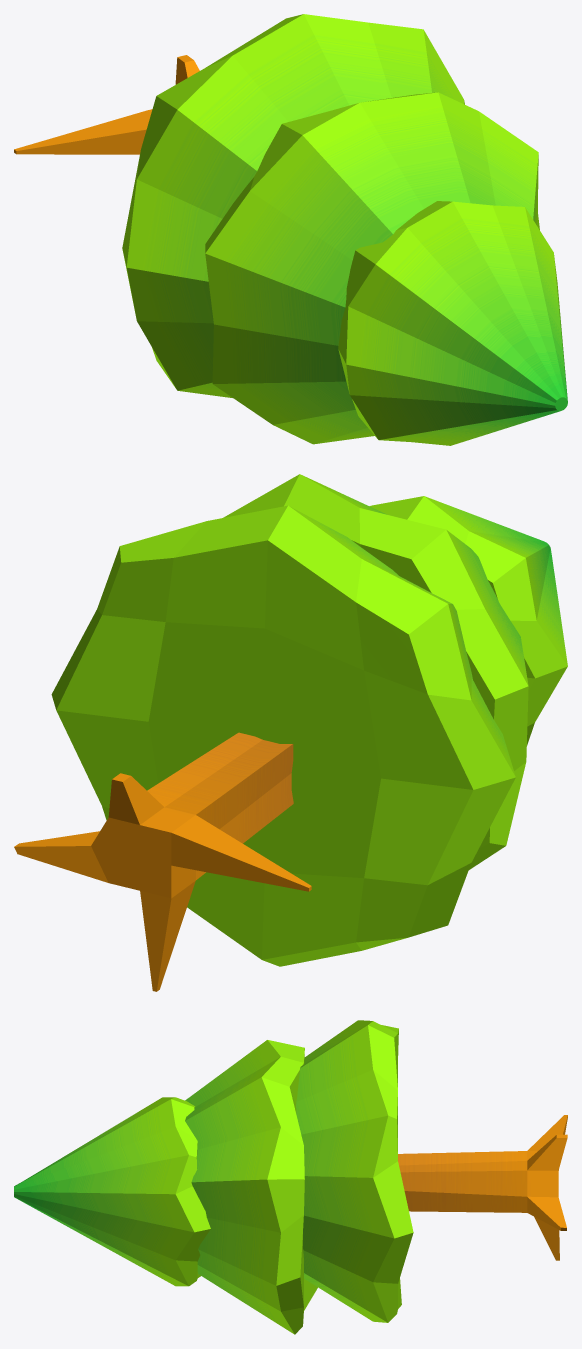
The model's file is tree1.glb.
The picture shows the model from 3 angles, top to bottom: view 1: azimuth 30°, elevation 25°; view 2: azimuth 150°, elevation 25°; view 3: azimuth 270°, elevation 25°; orthographic projection. The views are drawn at different scales.
Parts seen in each view (by area): view 1: Cube.002_leaves_0; view 2: Cube.002_leaves_0; view 3: Cube.002_leaves_0.
Part boxes in pixels (<box>): Cube.002_leaves_0: <box>14,14,567,445</box>; Cube.002_leaves_0: <box>14,474,567,991</box>; Cube.002_leaves_0: <box>14,1020,567,1334</box>.
Size of the model in its own units: 1.86 by 1.88 by 3.22.
1 material, 1 textured.
